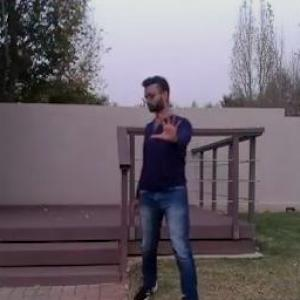follow_hand: (148, 106, 185, 148)
